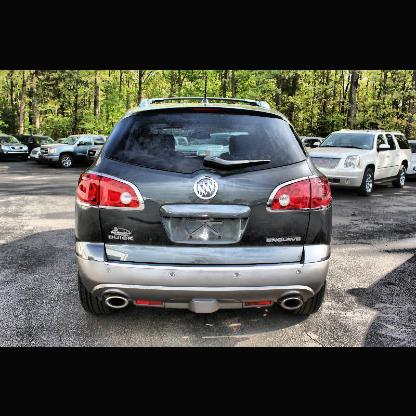Buick Enclave SUV 2012: (75, 98, 333, 317)
